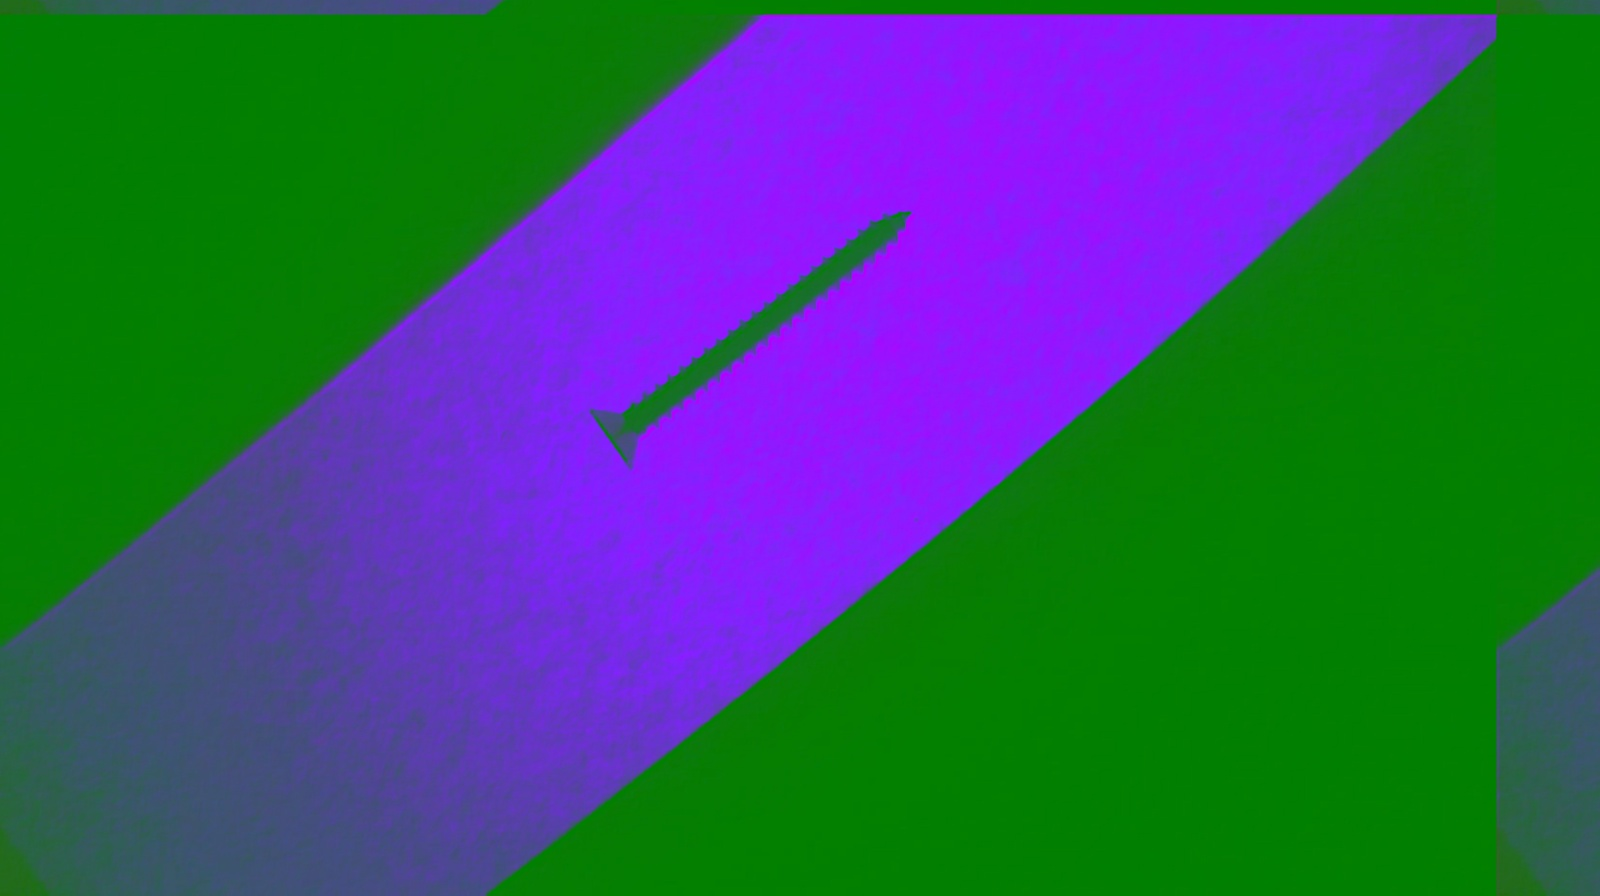S002: (576, 191, 926, 474)
